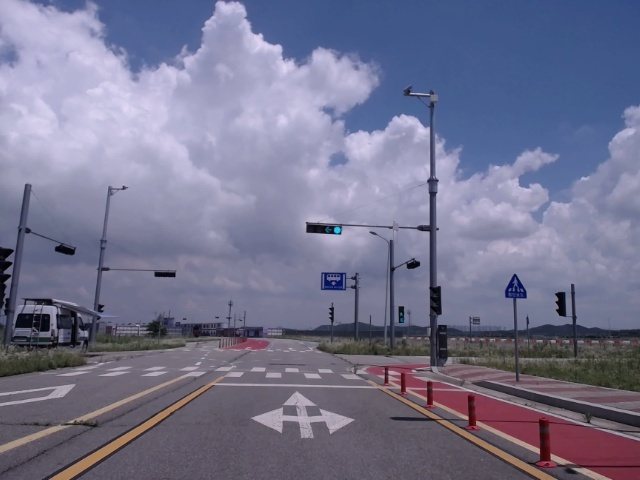all_green_4: (310, 221, 341, 237)
